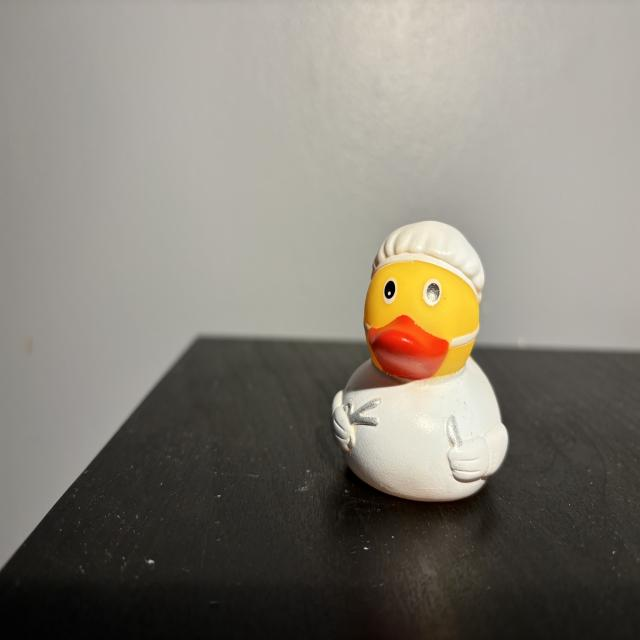duck_specialty: (333, 221, 510, 500)
